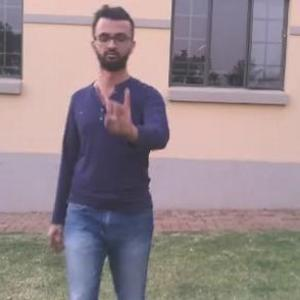takeoff-hand: (94, 82, 144, 140)
